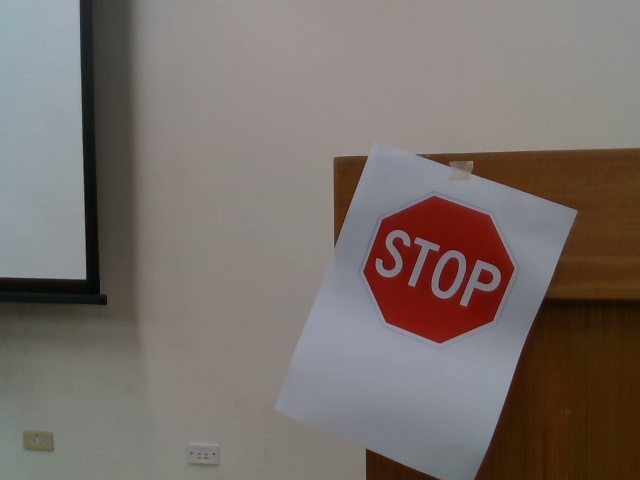stop: (362, 191, 518, 347)
